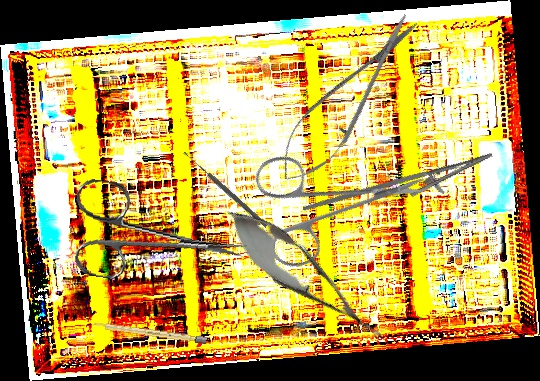Iris Scissors: (222, 99, 431, 308), (66, 177, 253, 297)
Micro Scissor: (265, 3, 432, 195), (211, 193, 401, 360)
Needle Holder: (302, 130, 499, 247)
Scalpel Handle: (91, 320, 207, 345)
Surgical Spoon: (182, 149, 269, 229)
